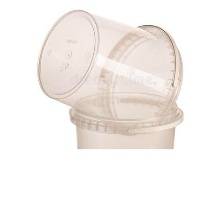plastic_box: (29, 4, 189, 138), (62, 86, 188, 148)
